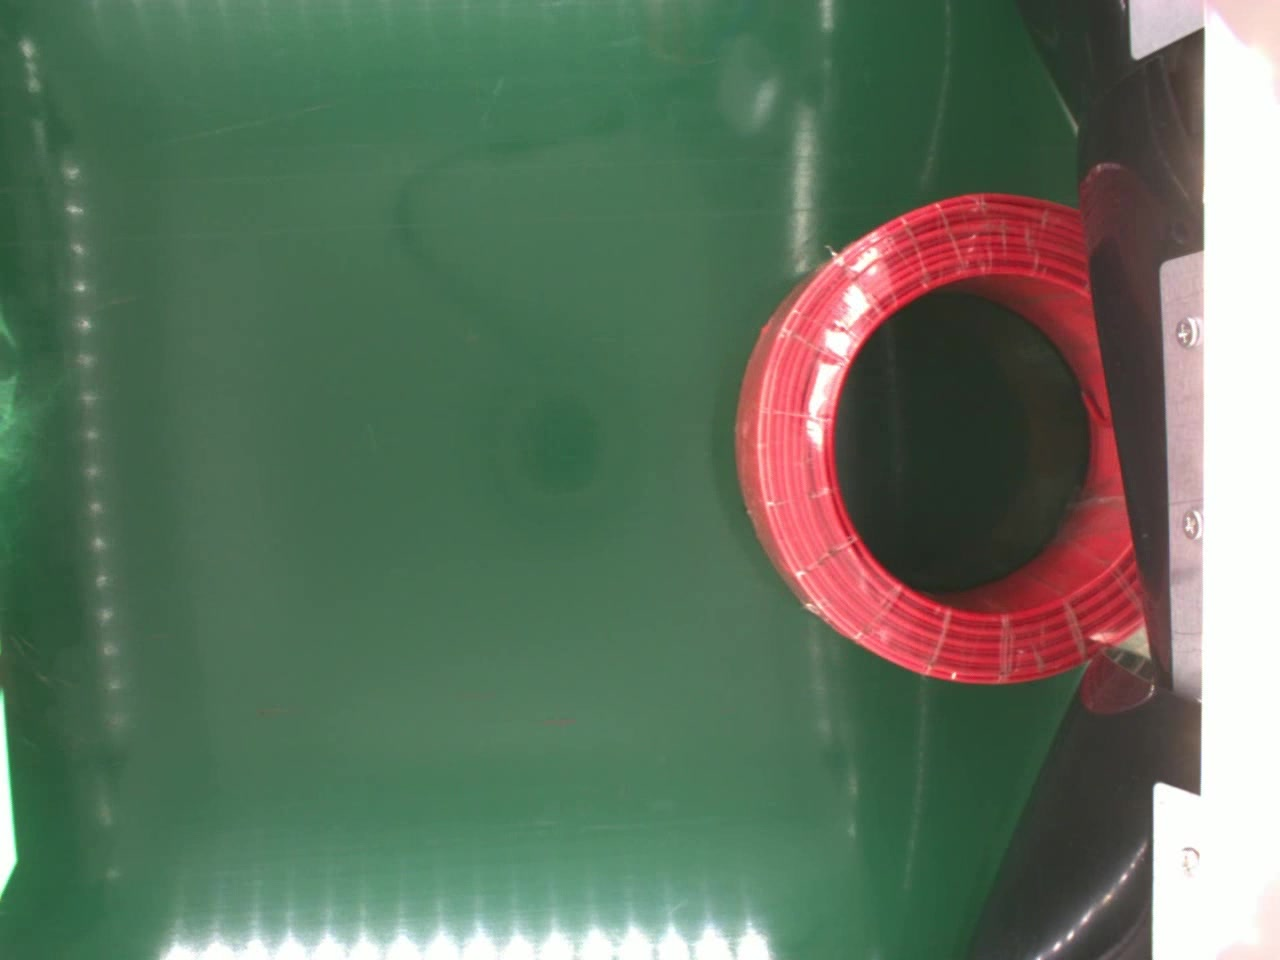red: (726, 192, 1152, 693)
